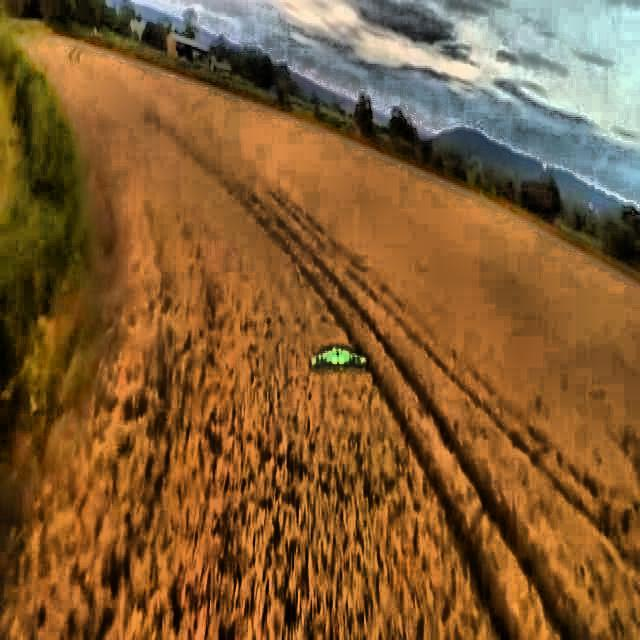iha: (340, 339, 342, 377)
